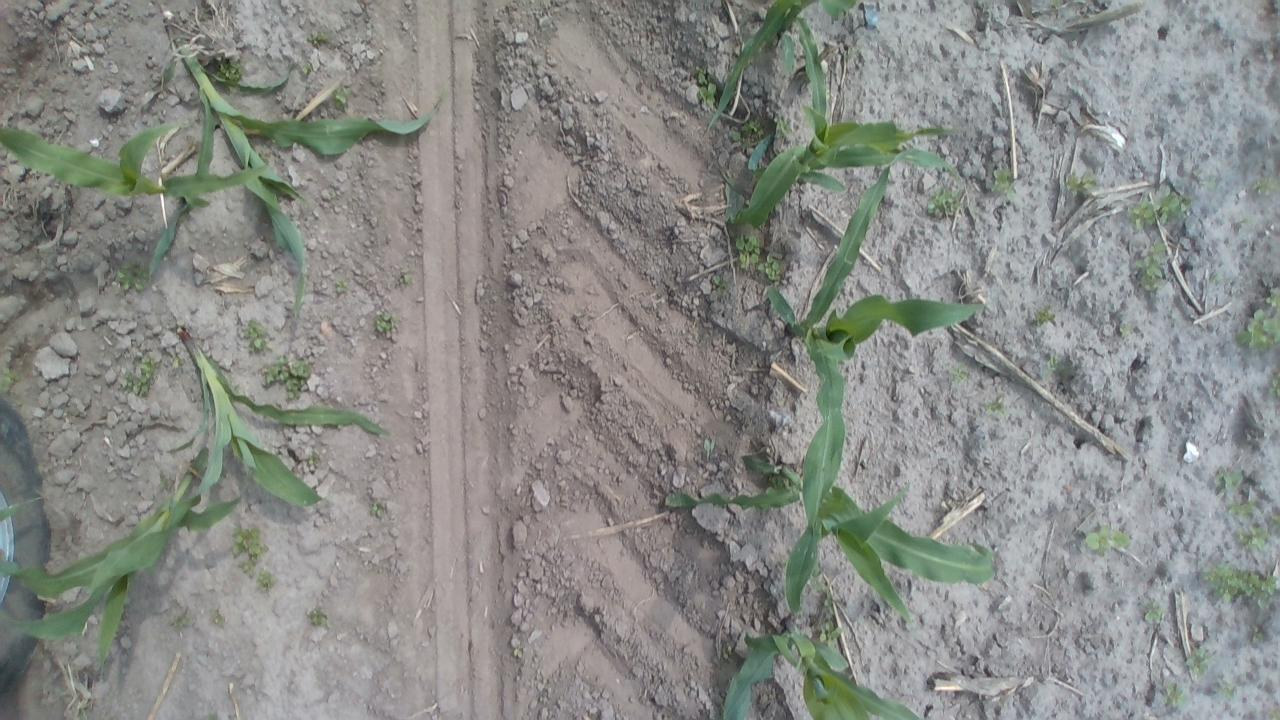Maize: (140, 0, 450, 320), (764, 156, 994, 541), (662, 454, 1002, 628), (0, 446, 247, 677), (735, 13, 962, 229), (160, 318, 392, 516), (8, 110, 310, 206), (720, 620, 920, 720), (703, 1, 851, 134)
Weeds: (1201, 558, 1278, 612), (1235, 284, 1280, 350), (1125, 190, 1194, 231), (262, 352, 311, 402), (1136, 236, 1170, 296), (232, 523, 272, 574), (1084, 525, 1131, 560), (116, 357, 156, 398), (928, 182, 964, 221), (115, 260, 152, 296), (1040, 356, 1083, 386), (240, 316, 272, 355), (735, 230, 762, 275), (1212, 463, 1248, 496), (1066, 169, 1100, 199), (1183, 645, 1212, 680), (1234, 523, 1270, 551), (990, 164, 1017, 200), (163, 603, 197, 631), (818, 622, 848, 652), (305, 606, 337, 634), (694, 66, 717, 104), (370, 307, 398, 337), (770, 109, 794, 142), (1222, 497, 1259, 518), (815, 583, 836, 619), (709, 272, 738, 298), (980, 393, 1009, 419), (757, 253, 782, 282), (1034, 304, 1062, 329), (1250, 173, 1278, 197), (72, 696, 102, 718), (1160, 682, 1185, 708), (216, 58, 242, 82), (948, 362, 971, 389), (255, 568, 277, 596), (304, 30, 332, 50), (742, 118, 769, 138), (731, 127, 752, 151), (367, 499, 388, 522), (1118, 318, 1138, 342), (1144, 602, 1165, 624), (1196, 170, 1219, 190), (329, 278, 352, 298), (303, 446, 322, 470), (1218, 682, 1238, 703), (208, 606, 226, 629), (336, 87, 352, 111), (1245, 624, 1264, 643), (1269, 372, 1280, 403), (1236, 213, 1252, 233), (169, 352, 186, 370), (156, 471, 172, 490), (701, 437, 714, 459), (1269, 511, 1280, 534), (302, 61, 312, 80), (1267, 706, 1280, 720), (208, 708, 222, 720)
